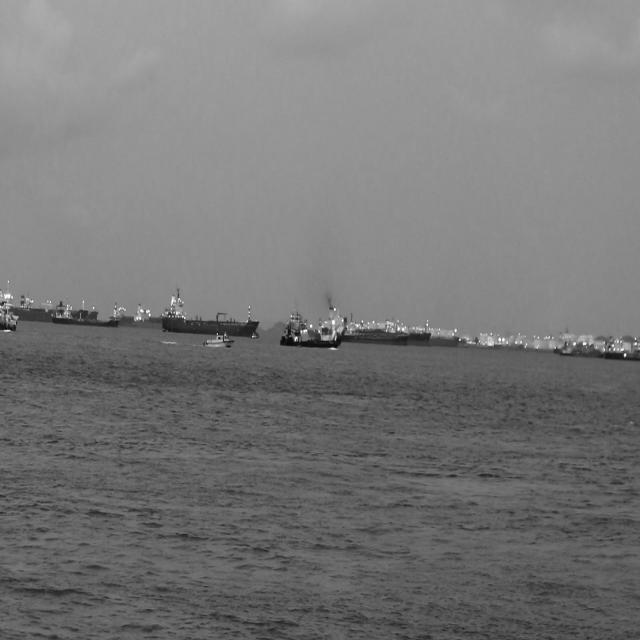ship: (161, 282, 260, 336), (278, 306, 349, 349), (3, 287, 86, 322), (325, 319, 411, 348), (51, 302, 125, 330), (110, 304, 168, 329), (436, 314, 466, 349), (204, 330, 237, 355), (412, 317, 434, 354), (0, 293, 20, 333), (603, 345, 639, 365), (560, 344, 604, 360)
